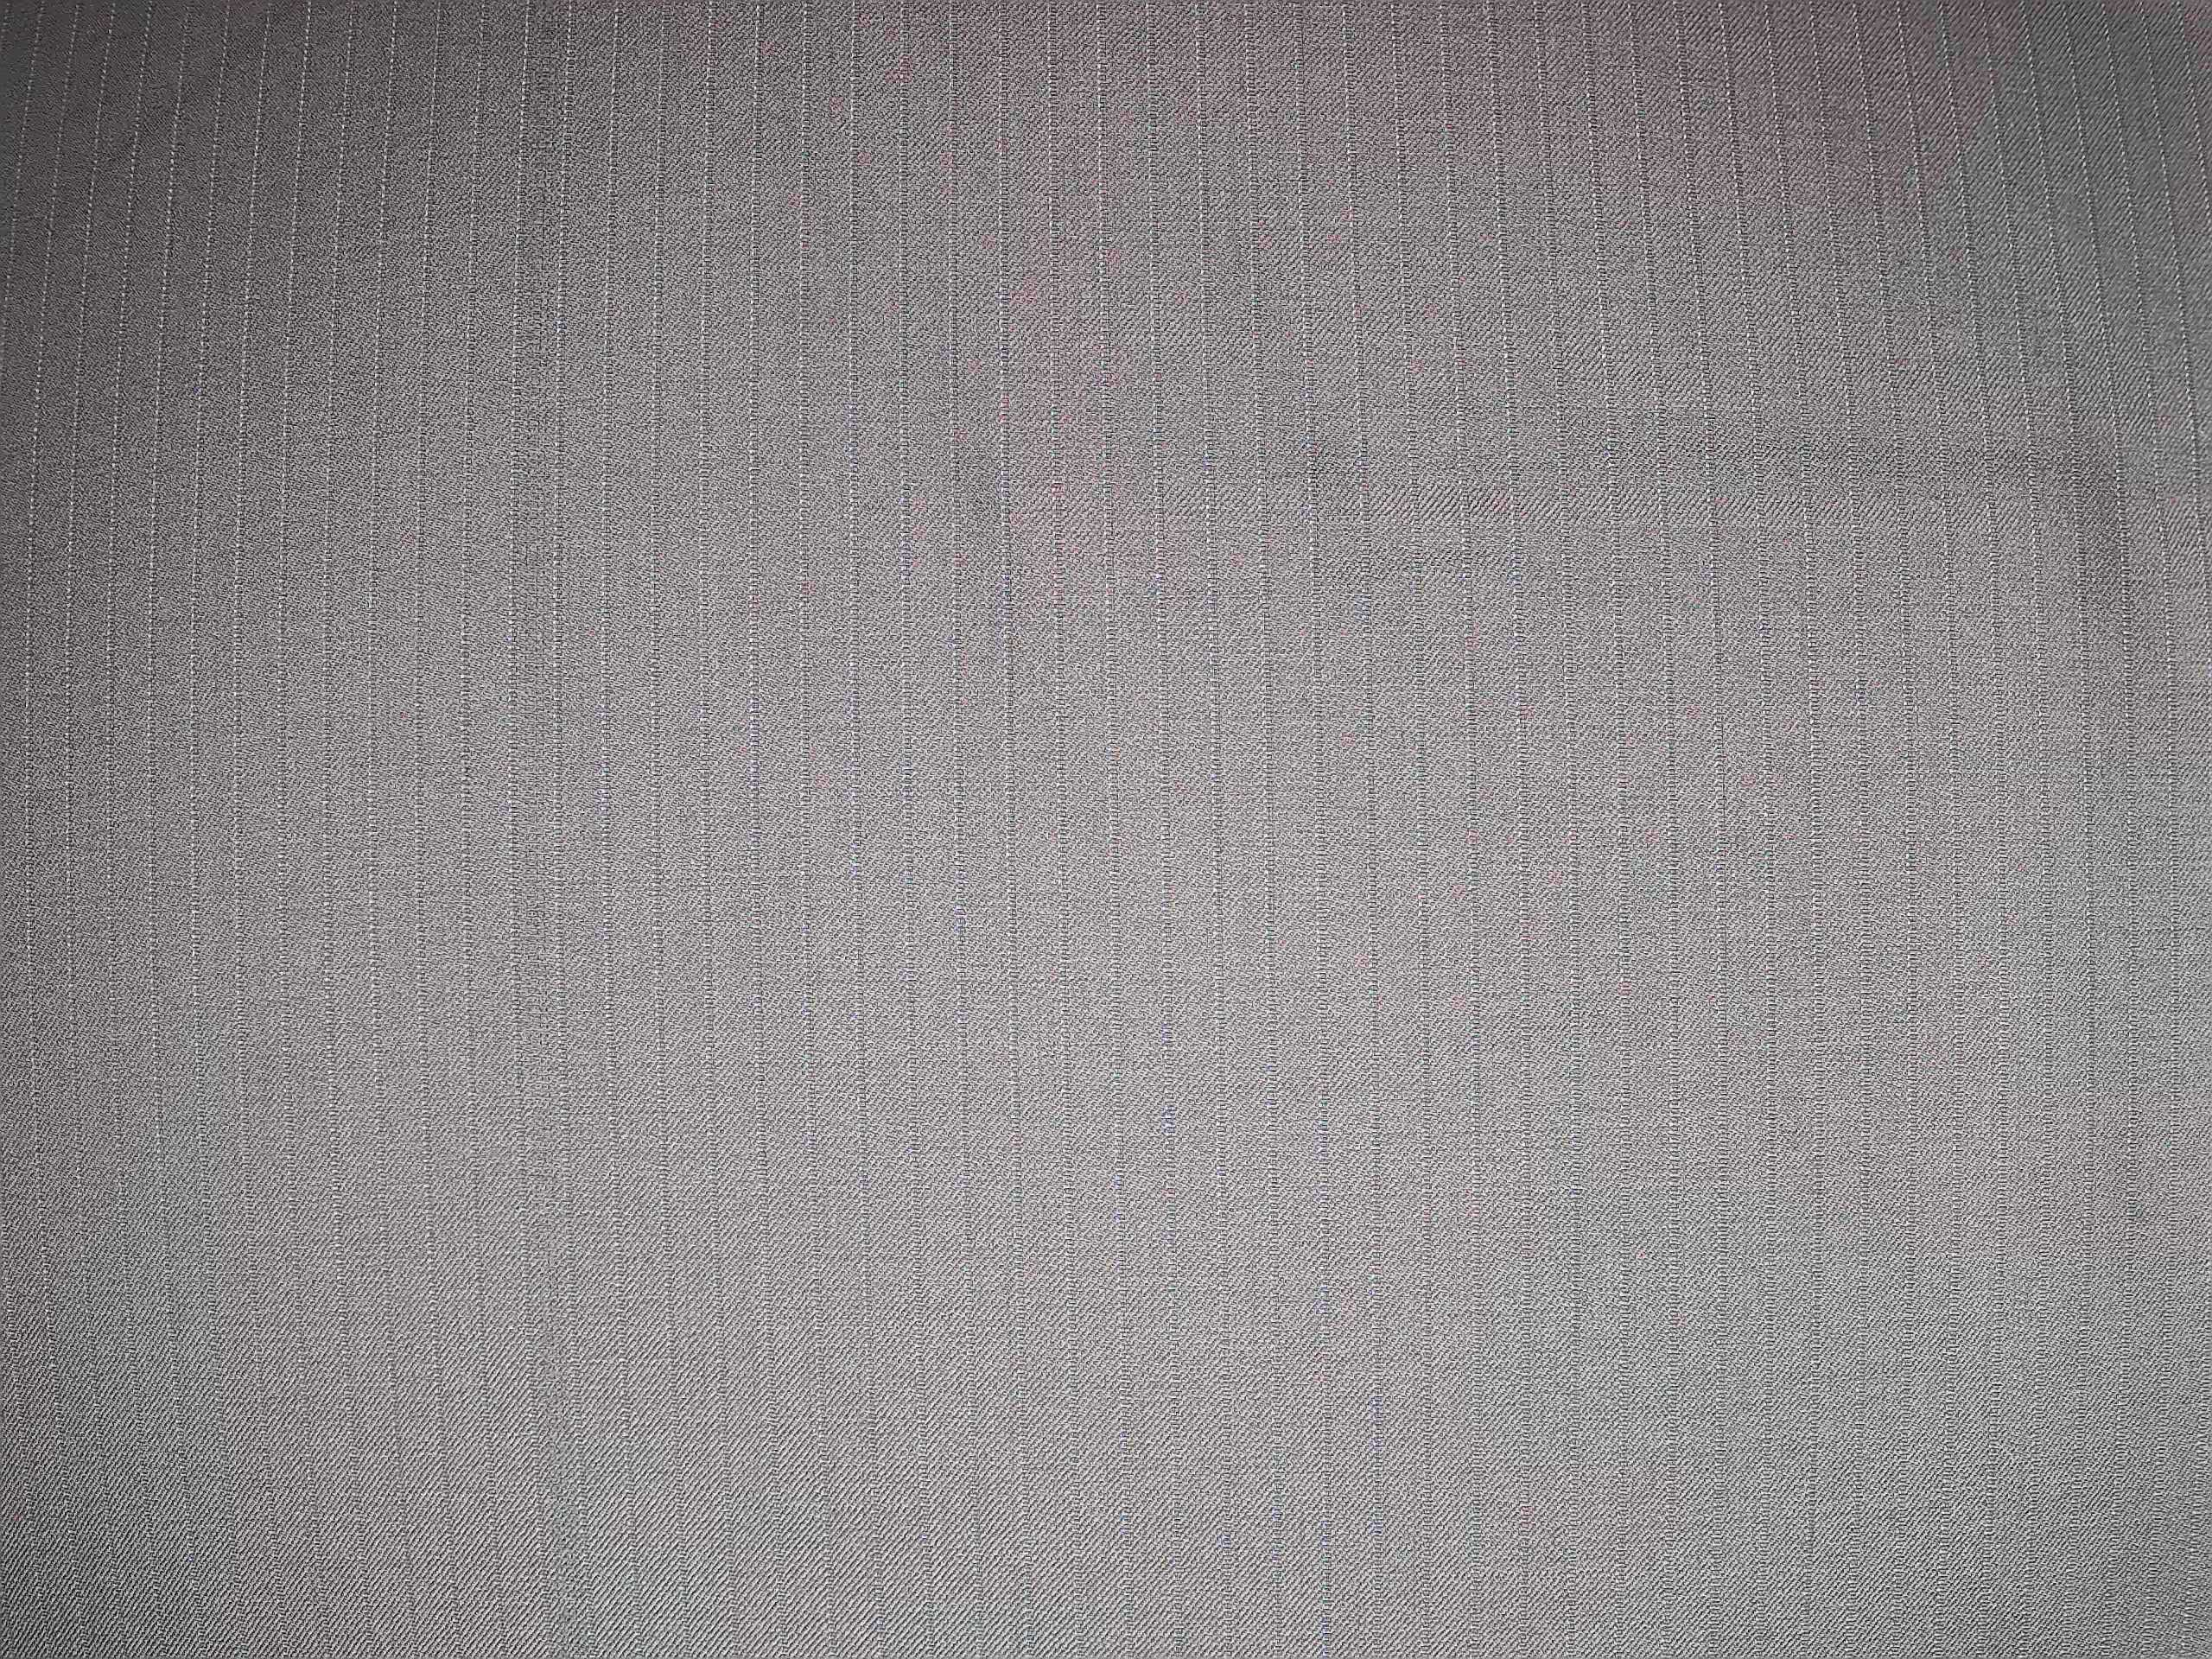jumps: (512, 2, 592, 1649)
